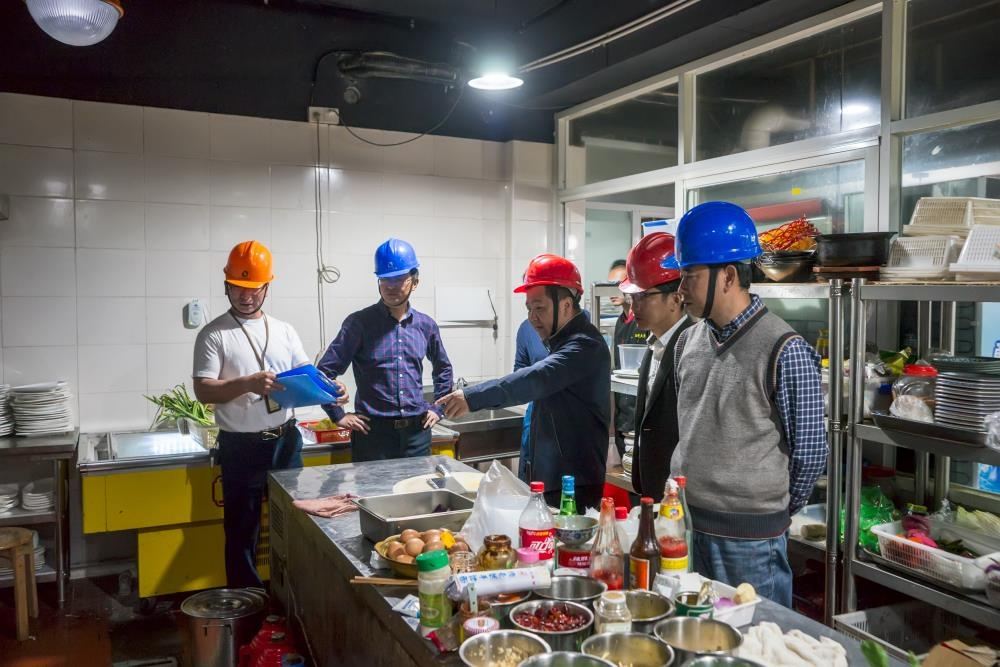blue: (673, 202, 759, 322), (370, 238, 422, 310)
red: (620, 229, 685, 337), (516, 254, 586, 335)
yellow: (222, 236, 278, 317)
